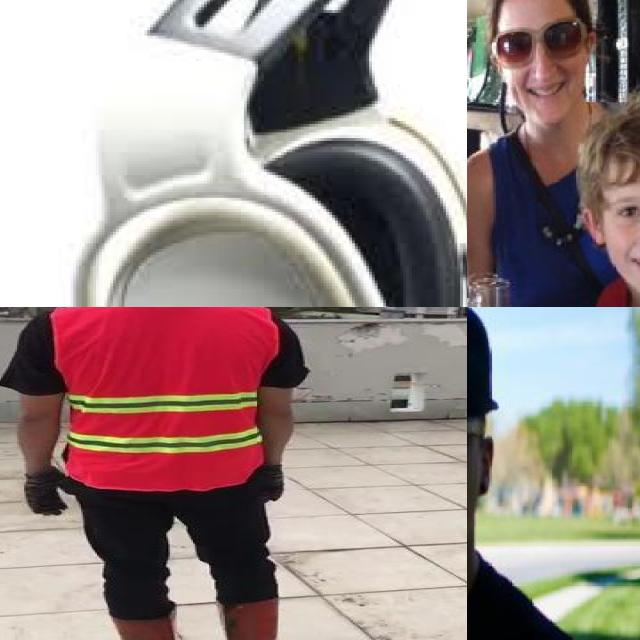Ear-protection: (84, 194, 386, 307)
boots: (212, 600, 306, 640), (98, 615, 187, 640)
face_nomask: (492, 6, 593, 114), (596, 187, 640, 284)
glasses: (490, 15, 592, 70)
hand_glove: (24, 472, 69, 516), (258, 465, 284, 502)
head_nohelmet: (579, 85, 640, 176), (467, 307, 502, 422)
person: (10, 307, 325, 640), (467, 307, 610, 640)
vest: (54, 307, 269, 489)
